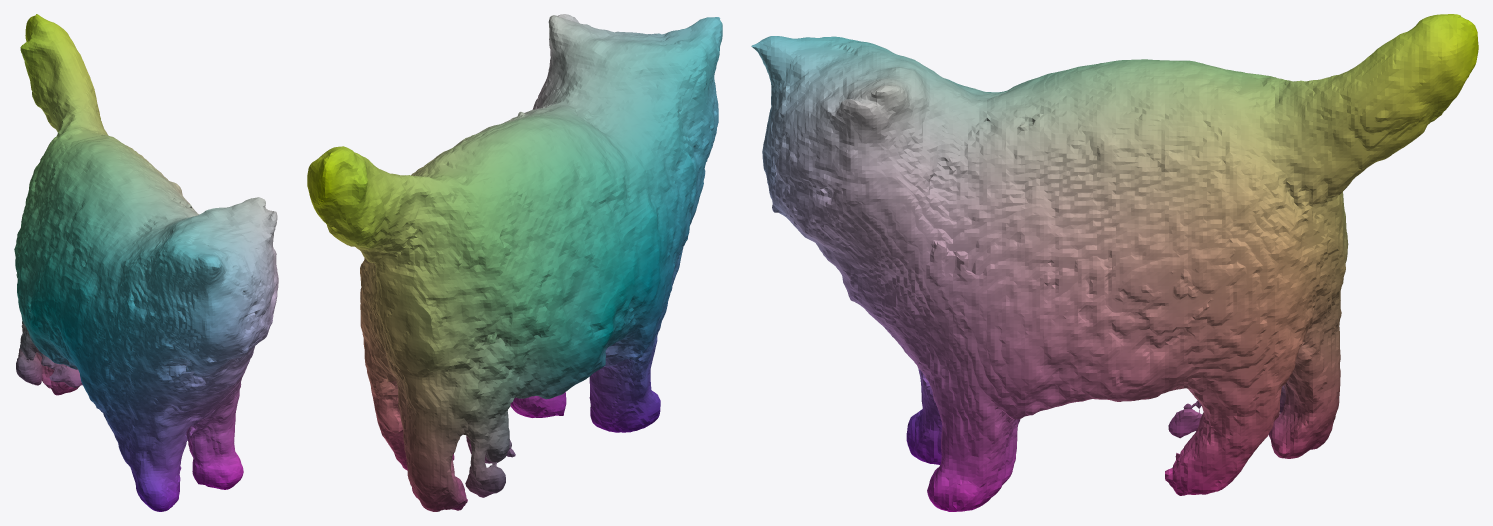
File: cat-pikachiu.glb
3 renders of one model, left to right at view 1: azimuth 30°, elevation 25°; view 2: azimuth 150°, elevation 25°; view 3: azimuth 270°, elevation 25°, orthographic. The views are drawn at different scales.
Parts seen in each view (by area): view 1: defaultobject; view 2: defaultobject; view 3: defaultobject.
Boxes of the visible parts, box(x1,y1,x2,y2) form: defaultobject: box(14, 14, 278, 511); defaultobject: box(307, 14, 722, 511); defaultobject: box(751, 14, 1478, 511).
Bounding box in the file's own units: 0.0594 × 0.1193 × 0.1613.
